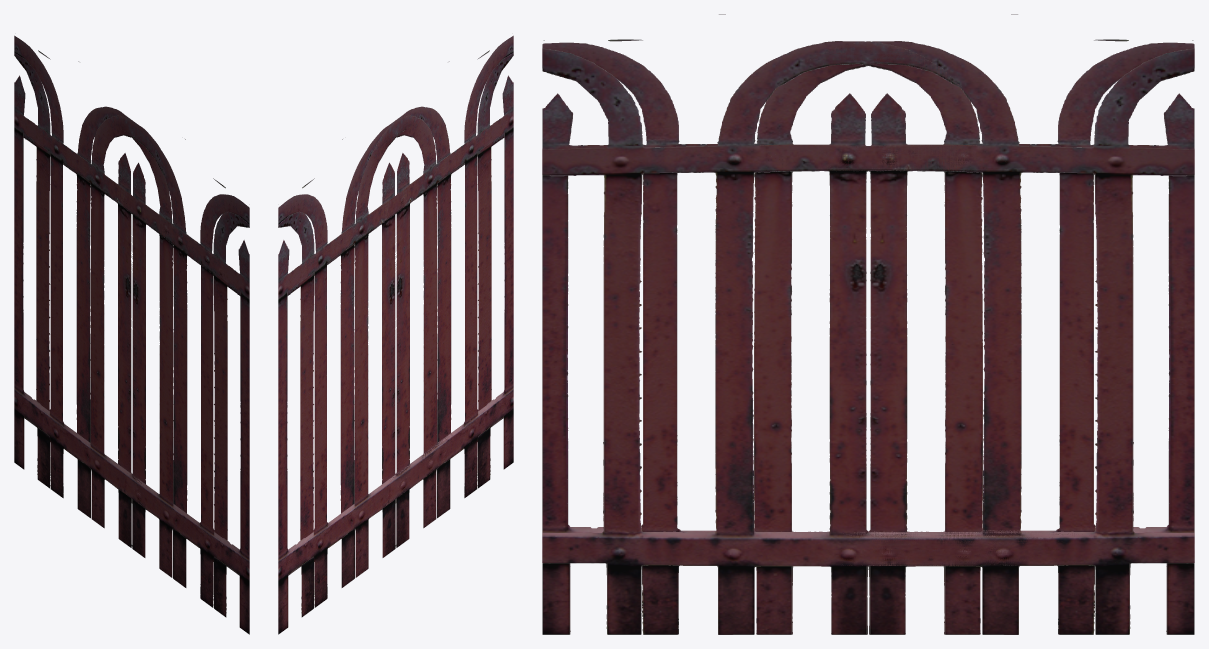
Rendered from railing A.FBX.
3 views of the same model, side by side, from view 1: azimuth 30°, elevation 25°; view 2: azimuth 150°, elevation 25°; view 3: azimuth 270°, elevation 25° (orthographic). The views are drawn at different scales.
Visible parts, largest first — view 1: Plane002; view 2: Plane002; view 3: Plane002.
Boxes of the visible parts, x1,y1,x2,y2 form: Plane002: [14, 35, 249, 634]; Plane002: [278, 35, 513, 634]; Plane002: [542, 14, 1194, 634].
Bounding box in the file's own units: 3.1e-06 × 21 × 20.
